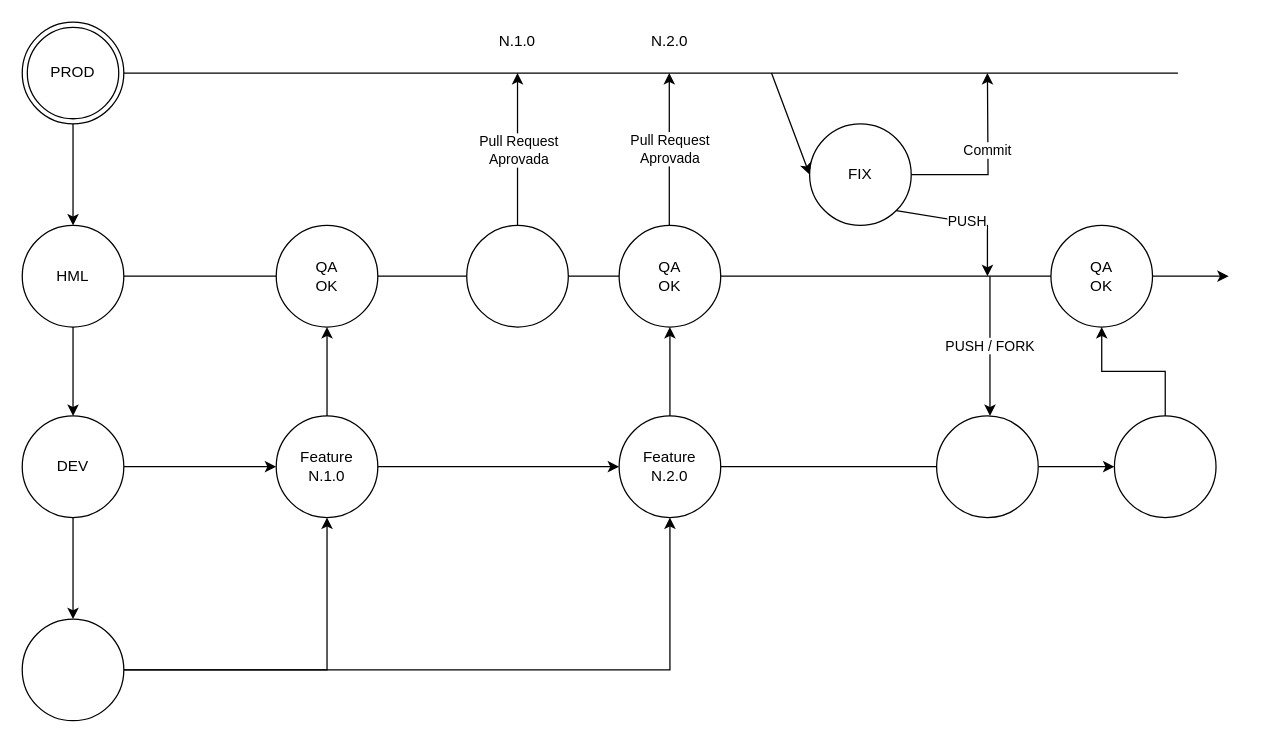
Image size: 1261x743. Some labels were removed from this diagram. The shapes that lost their labels are listed below. From the top down, each one's centre as x and y in pixels, then its label:
the point at 516,275: CLIENTE OK
the point at 986,466: Feature N.2.1
the point at 1164,466: Feature N.3.0
the point at 72,669: DEVLocal
